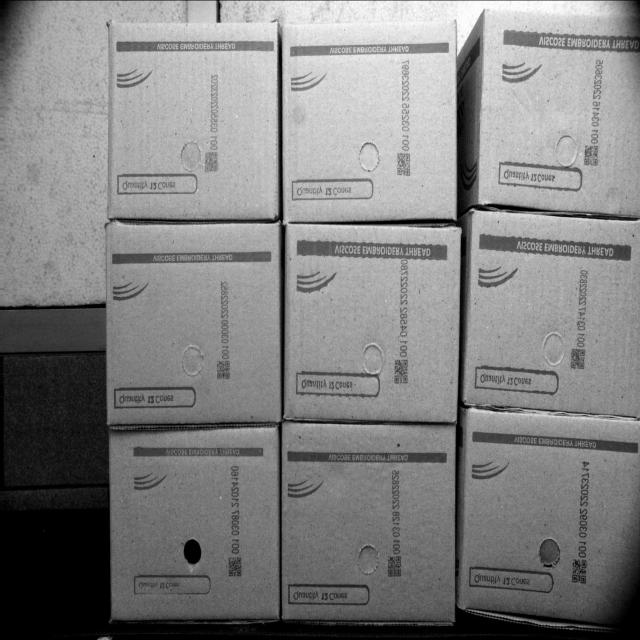cardboxes: (286, 14, 462, 223), (461, 426, 640, 628), (286, 223, 462, 427), (468, 214, 640, 416), (111, 426, 282, 623), (110, 230, 278, 430), (111, 23, 276, 224), (476, 14, 639, 215), (284, 432, 452, 623)
